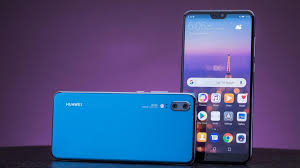huawei: (179, 7, 254, 167), (46, 88, 199, 164)
